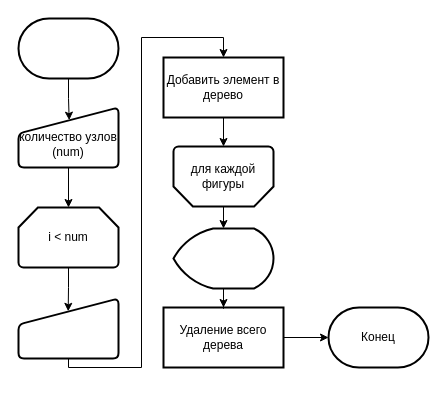
Image size: 446x393. Some labels were removed from this diagram. The shapes that lost their labels are listed below. From the top down, each one's box as (x1, y1, x2, y2) in pixels, then its label:
(17, 17, 119, 79): Начало
(172, 227, 274, 289): Получившееся дерево
(17, 297, 119, 359): Значение узла
